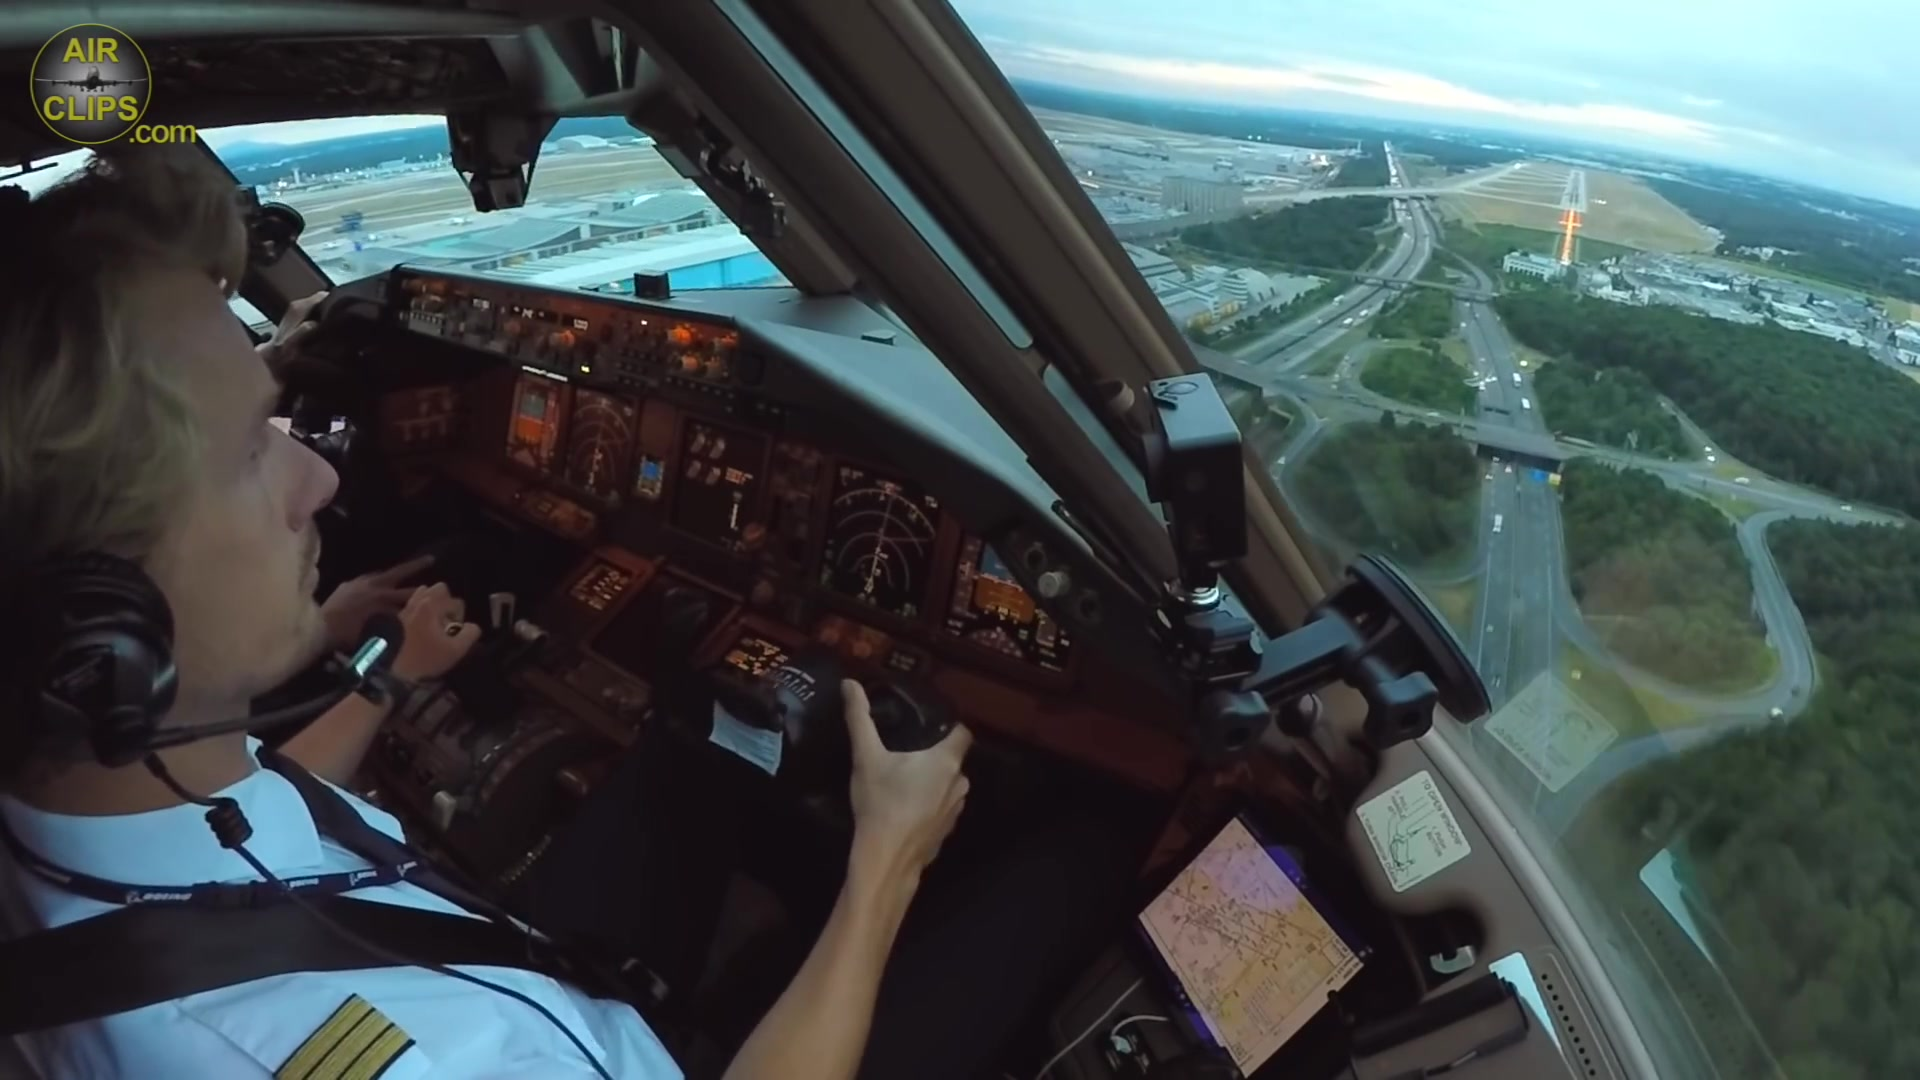runway: (1556, 167, 1589, 215)
